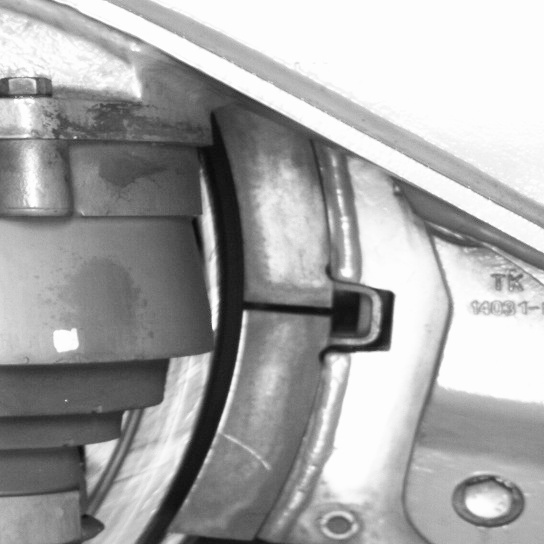KnifeSwitch: (139, 142, 357, 540)
